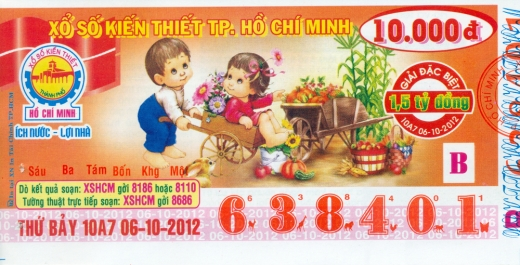serial_zone: (211, 187, 498, 241)
